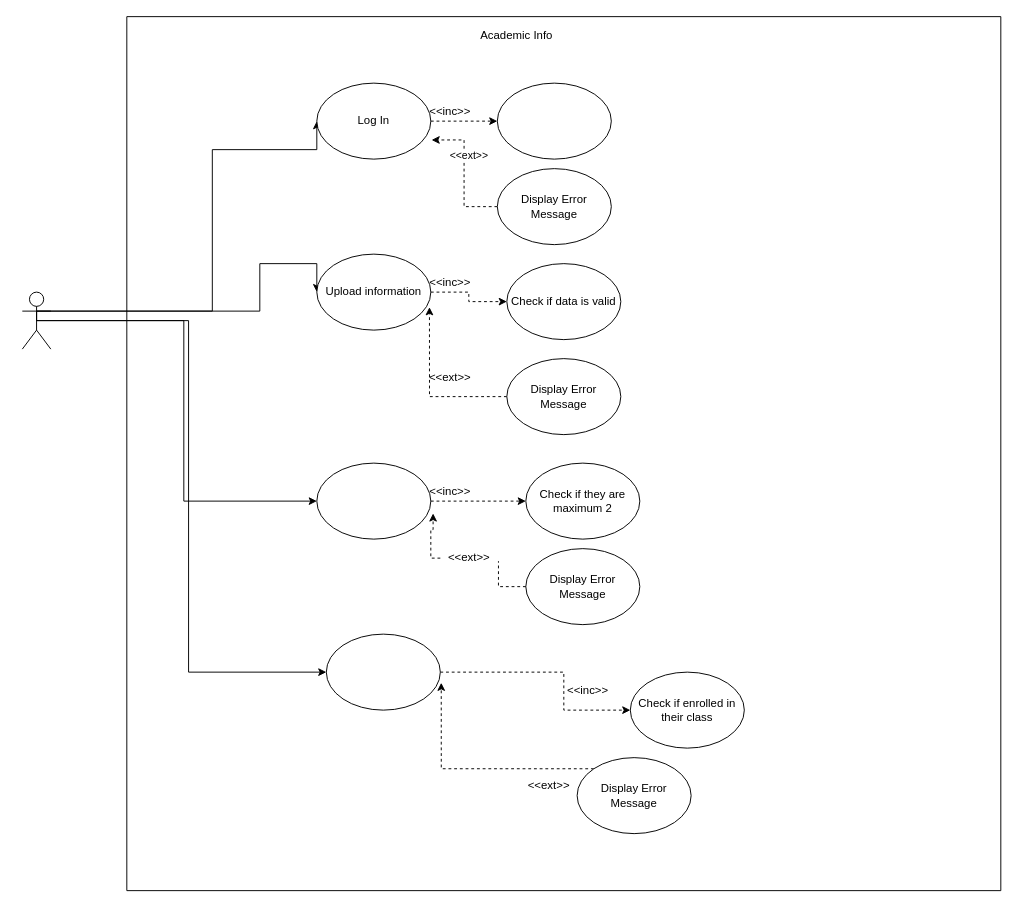
Image size: 1018x908. Some labels were removed from this diagram. Here are the shapes that lost their labels. From the top down, the centre of each, then its label:
At [553,120]: "Verify password".
At [36,320]: "Teacher".
At [373,500]: "Propose a list of optional courses".
At [382,671]: "Add grades to student".
